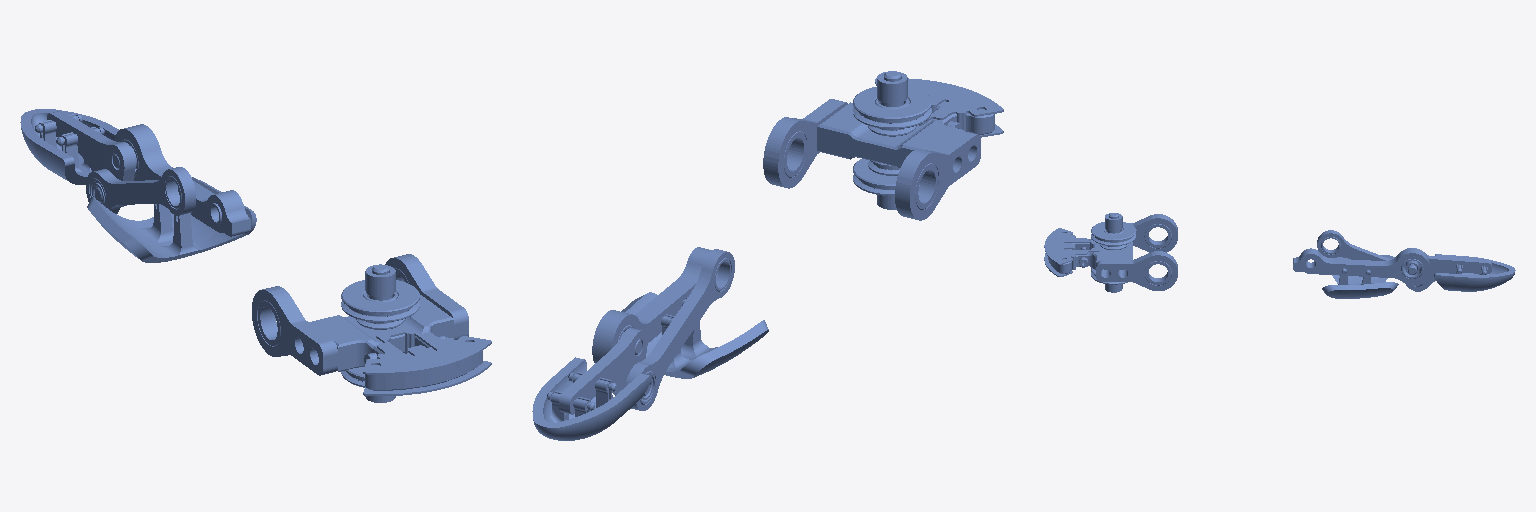
URDF robot description (finger):
<?xml version="1.0"?>
<robot name="finger">

  <!-- Generated by blender_export.py from /home/michael-jenz/rds_ws/finger_vizualization/src/drake-finger-sim/blender_files/rds_finger2.blend -->

  <material name="blue">
    <color rgba="0 0 1 1"/>
  </material>
  <material name="green">
    <color rgba="0 1 0 1"/>
  </material>
  <material name="red">
    <color rgba="1 0 0 1"/>
  </material>
  <material name="purple">
    <color rgba="1 0 1 1"/>
  </material>
  <material name="grey">
    <color rgba="0.5 0.5 0.5 1"/>
  </material>
  <material name="yellow">
    <color rgba="1 1 0 1"/>
  </material>

  <!-- Finger base -->
  <link name="base_link">
    <visual>
      <geometry>
        <mesh filename="package://finger_description/meshes/urdf/visual/base_link.obj"/>
      </geometry>
      <material name="setpoint_ghost">
        <color rgba="0.5 0.6 0.8 0.35"/>
      </material>
    </visual>
    <collision>
      <geometry>
        <mesh filename="package://finger_description/meshes/urdf/collision/col_base_link.obj"/>
      </geometry>
    </collision>
    <inertial>
      <mass value="0.05"/>
      <origin xyz="0 0 0" rpy="0 0 0"/>
      <inertia ixx="1e-05" ixy="0" ixz="0" iyy="1e-05" iyz="0" izz="1e-05"/>
    </inertial>
  </link>

  <!-- Mcp Splay -->
  <joint name="mcp_splay" type="revolute">
    <parent link="base_link"/>
    <child link="mcp_link"/>
    <origin xyz="0.0 0.0196 0.017" rpy="0 0 0"/>
    <axis xyz="0.0 0.0 1.0"/>
    <limit lower="-0.174533" upper="0.174533" effort="5.0" velocity="3.14"/>
    <dynamics damping="0.1" friction="0.0"/>
  </joint>

  <!-- Space between MCP splay and flexion -->
  <link name="mcp_link">
    <visual>
      <geometry>
        <mesh filename="package://finger_description/meshes/urdf/visual/mcp_link.obj"/>
      </geometry>
      <material name="setpoint_ghost">
        <color rgba="0.5 0.6 0.8 0.35"/>
      </material>
    </visual>
    <collision>
      <geometry>
        <mesh filename="package://finger_description/meshes/urdf/collision/col_mcp_link.obj"/>
      </geometry>
    </collision>
    <inertial>
      <mass value="0.01"/>
      <origin xyz="0 0 0" rpy="0 0 0"/>
      <inertia ixx="1e-05" ixy="0" ixz="0" iyy="1e-05" iyz="0" izz="1e-05"/>
    </inertial>
  </link>

  <!-- Mcp Flexion -->
  <joint name="mcp_flexion" type="revolute">
    <parent link="mcp_link"/>
    <child link="proximal_phalanx"/>
    <origin xyz="-0.0 0.0177 0.0" rpy="0 0 0"/>
    <axis xyz="-1.0 0.0 0.0"/>
    <limit lower="0" upper="1.57" effort="5.0" velocity="3.14"/>
    <dynamics damping="0.1" friction="0.0"/>
  </joint>

  <!-- Proximal phalanx -->
  <link name="proximal_phalanx">
    <visual>
      <geometry>
        <mesh filename="package://finger_description/meshes/urdf/visual/proximal_phalanx.obj"/>
      </geometry>
      <material name="setpoint_ghost">
        <color rgba="0.5 0.6 0.8 0.35"/>
      </material>
    </visual>
    <collision>
      <geometry>
        <mesh filename="package://finger_description/meshes/urdf/collision/col_proximal_phalanx.obj"/>
      </geometry>
    </collision>
    <inertial>
      <mass value="0.01"/>
      <origin xyz="0 0 0" rpy="0 0 0"/>
      <inertia ixx="1e-05" ixy="0" ixz="0" iyy="1e-05" iyz="0" izz="1e-05"/>
    </inertial>
  </link>

  <!-- Pip Flexion -->
  <joint name="pip_flexion" type="revolute">
    <parent link="proximal_phalanx"/>
    <child link="middle_phalanx"/>
    <origin xyz="-0.0001 0.0612 -0.0017" rpy="0 0 0"/>
    <axis xyz="-1.0 0.0 0.0"/>
    <limit lower="0.0" upper="1.57" effort="5.0" velocity="3.14"/>
    <dynamics damping="0.1" friction="0.0"/>
  </joint>

  <!-- Middle phalanx -->
  <link name="middle_phalanx">
    <visual>
      <geometry>
        <mesh filename="package://finger_description/meshes/urdf/visual/middle_phalanx.obj"/>
      </geometry>
      <material name="setpoint_ghost">
        <color rgba="0.5 0.6 0.8 0.35"/>
      </material>
    </visual>
    <collision>
      <geometry>
        <mesh filename="package://finger_description/meshes/urdf/collision/col_middle_phalanx.obj"/>
      </geometry>
    </collision>
    <inertial>
      <mass value="0.008"/>
      <origin xyz="0 0 0" rpy="0 0 0"/>
      <inertia ixx="5e-06" ixy="0" ixz="0" iyy="5e-06" iyz="0" izz="5e-06"/>
    </inertial>
  </link>

  <!-- Dip Flexion -->
  <joint name="dip_flexion" type="revolute">
    <parent link="middle_phalanx"/>
    <child link="distal_phalanx"/>
    <origin xyz="0.0036 0.0406 -0.0023" rpy="0 0 0"/>
    <axis xyz="-1.0 0.0 0.0"/>
    <limit lower="0.0" upper="1.57" effort="3.0" velocity="3.14"/>
    <dynamics damping="0.1" friction="0.0"/>
    <mimic joint="pip_flexion" multiplier="0.85" offset="0.0"/>
  </joint>

  <!-- Distal phalanx -->
  <link name="distal_phalanx">
    <visual>
      <geometry>
        <mesh filename="package://finger_description/meshes/urdf/visual/distal_phalanx.obj"/>
      </geometry>
      <material name="setpoint_ghost">
        <color rgba="0.5 0.6 0.8 0.35"/>
      </material>
    </visual>
    <collision>
      <geometry>
        <mesh filename="package://finger_description/meshes/urdf/collision/col_distal_phalanx.obj"/>
      </geometry>
    </collision>
    <inertial>
      <mass value="0.005"/>
      <origin xyz="0 0 0" rpy="0 0 0"/>
      <inertia ixx="2e-06" ixy="0" ixz="0" iyy="2e-06" iyz="0" izz="2e-06"/>
    </inertial>
  </link>

</robot>

--- Facts derived from the render (not from the file) ---
The picture shows the robot from 3 angles, left to right: view 1: azimuth 30°, elevation 25°; view 2: azimuth 150°, elevation 25°; view 3: azimuth 270°, elevation 25°; orthographic projection.
Model finger with 5 links and 4 joints (4 revolute), rooted at base_link, posed every joint at zero.
Links seen in each view (by area): view 1: mcp_link, middle_phalanx, distal_phalanx; view 2: mcp_link, middle_phalanx, distal_phalanx; view 3: mcp_link, middle_phalanx, distal_phalanx.
Link boxes in pixels (left/top/right/bottom): mcp_link: left=252, top=254, right=491, bottom=402; middle_phalanx: left=86, top=124, right=256, bottom=262; distal_phalanx: left=20, top=109, right=136, bottom=206; mcp_link: left=763, top=71, right=1003, bottom=220; middle_phalanx: left=592, top=247, right=768, bottom=410; distal_phalanx: left=532, top=328, right=652, bottom=440; mcp_link: left=1044, top=213, right=1177, bottom=292; middle_phalanx: left=1293, top=230, right=1429, bottom=298; distal_phalanx: left=1403, top=254, right=1515, bottom=291.
Bounding box of the posed robot: 0.039 × 0.1884 × 0.0355 m (x, y, z).
3 mesh visuals loaded from 5 distinct referenced files (3 OBJ); not drawn: 2 (reference not matched to a file when rendering).
